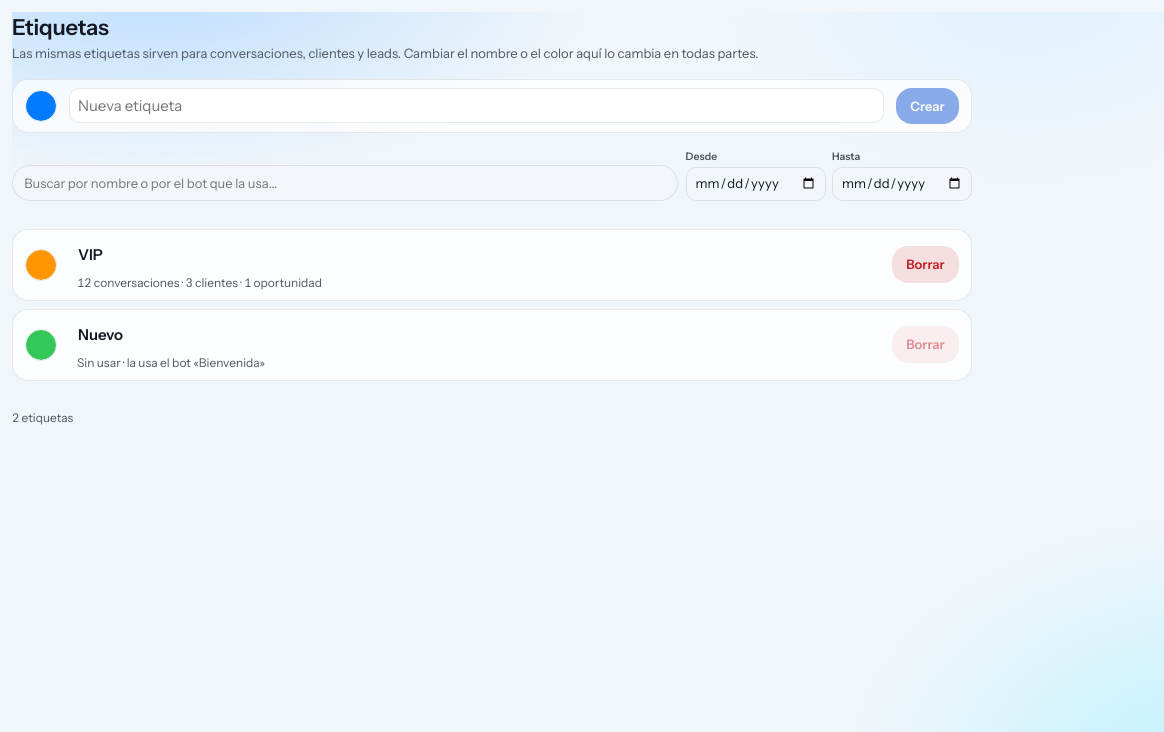
Test: Etiquetas · buscar y paginar › el filtro de fechas esconde lo que cae fuera
Expected: the field showing "VIP" is shown, [69,238,880,273]
Note: Todas son del 1 de septiembre: pedir desde octubre no deja ninguna.
In the date field labelled "Desde": (756, 184) [686,167,826,201], type "2026-10-01"
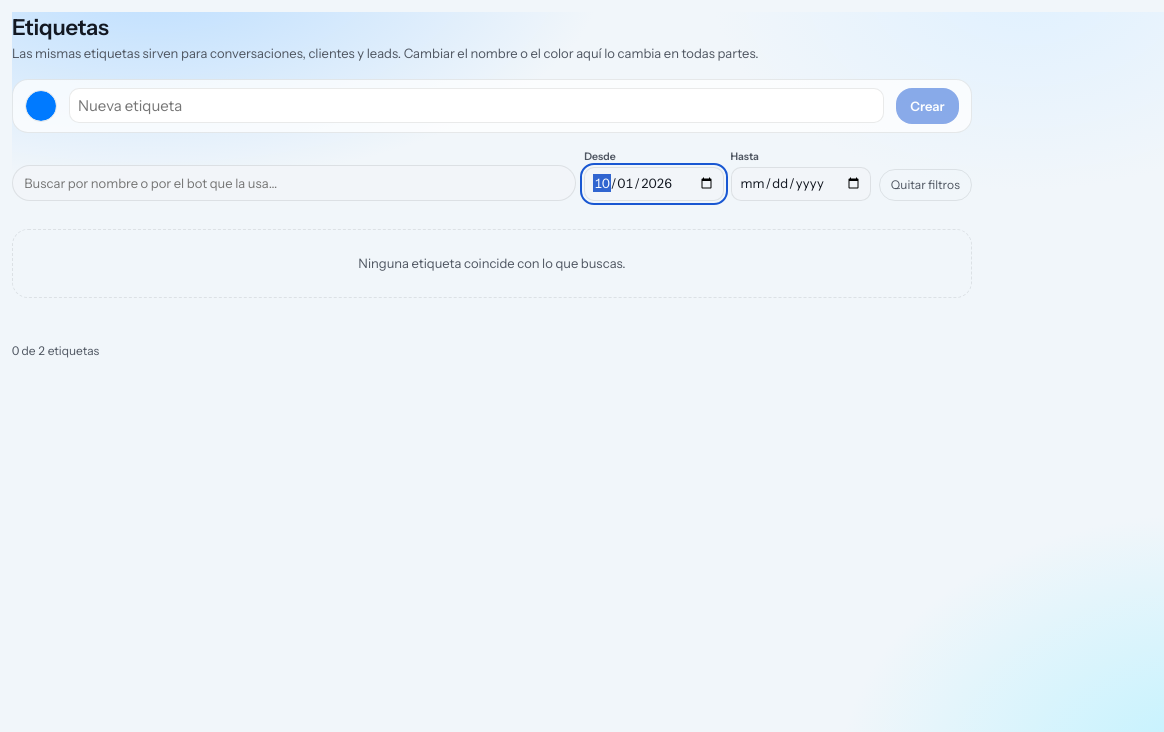
Expected: the text "Ninguna etiqueta coincide con lo que buscas." is shown, [12,229,972,298]
